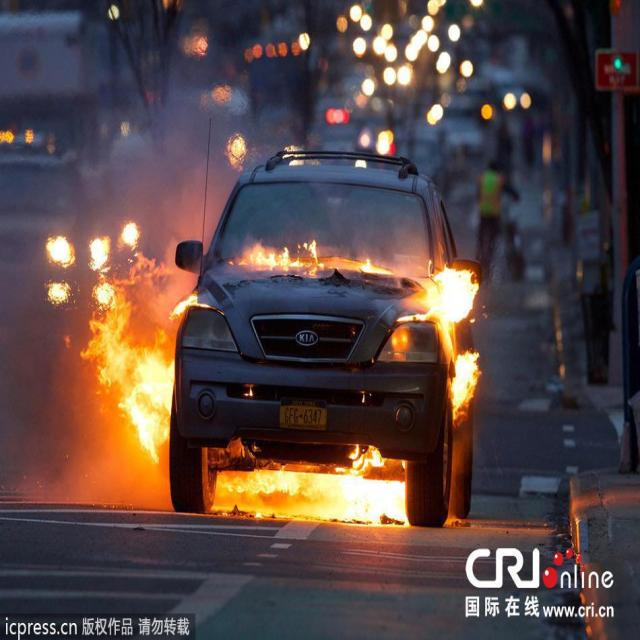fire: (37, 225, 173, 454), (220, 456, 418, 518), (232, 237, 398, 288), (398, 246, 484, 330), (438, 336, 479, 422), (164, 282, 216, 328), (220, 133, 253, 165)
other: (336, 6, 500, 125), (236, 32, 316, 62), (1, 123, 57, 153), (197, 73, 234, 114), (186, 25, 223, 53), (367, 130, 397, 158)
smoke: (129, 113, 212, 206)
